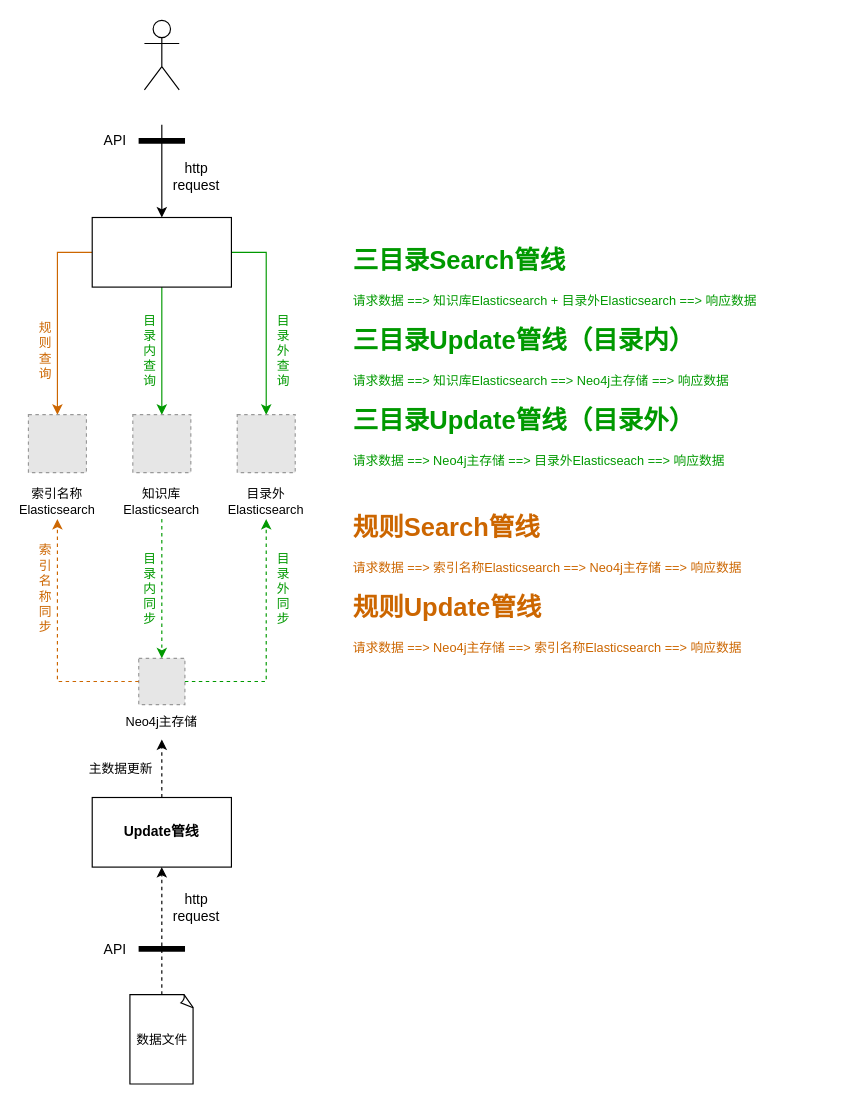
The diagram is 843 pixels wide and 1104 high, and some of its shapes have lost their labels. Grey dashed boxes stand in for pictures. Each missing label, with the centre of its shape:
Search管线: point 161,251
用户: point 161,54
